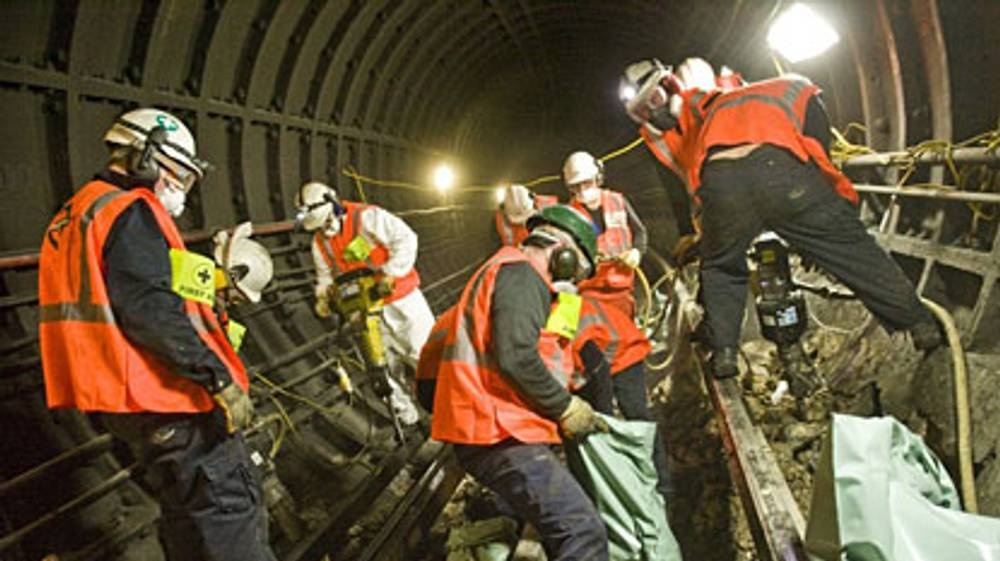white: (103, 106, 198, 214), (617, 58, 680, 133), (291, 183, 342, 235), (562, 151, 606, 205), (502, 181, 536, 225)
